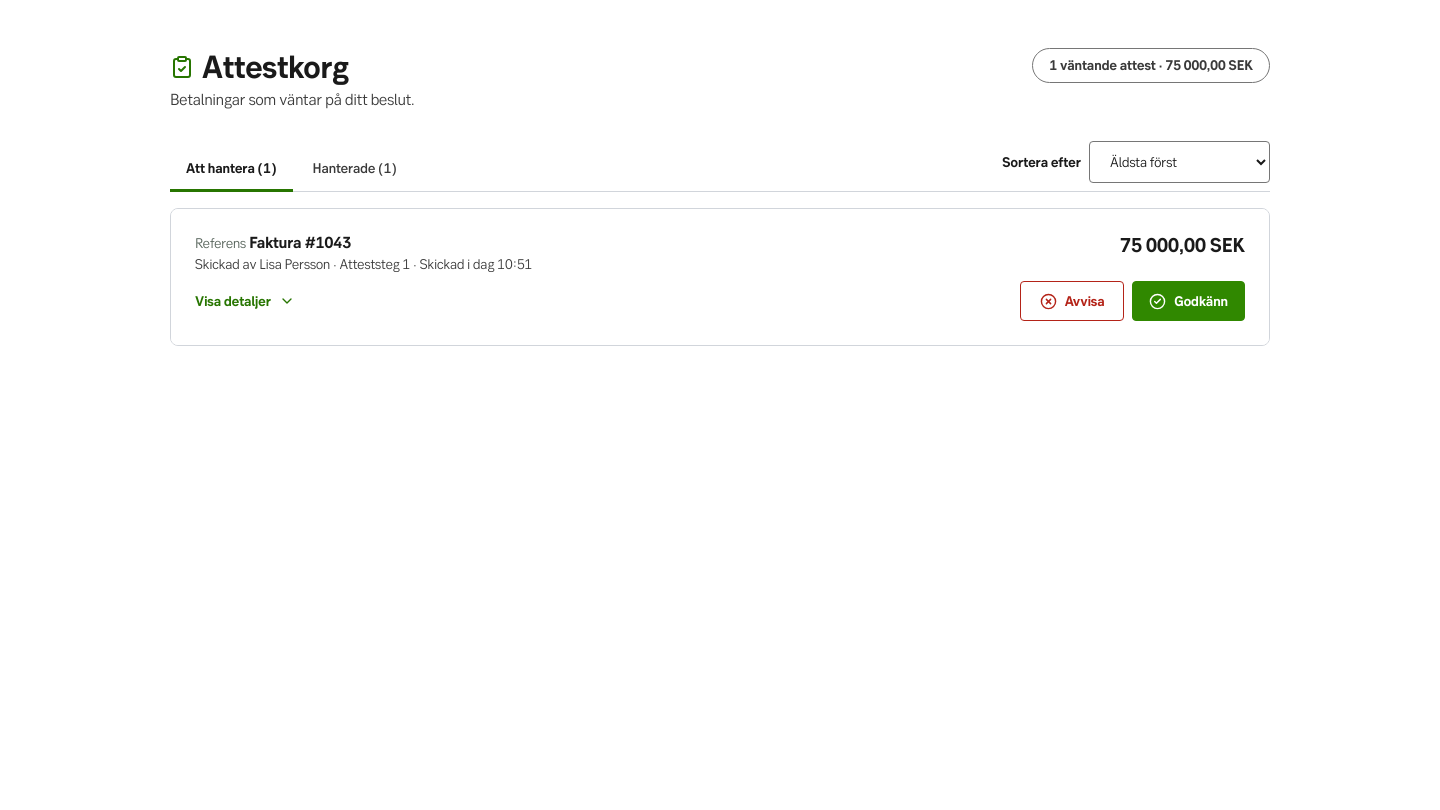
Approving and rejecting payments › does not reject with a reason shorter than 10 characters
Click the button with aria-label "Avvisa betalning med referens" at [1072, 301], box [1020,281,1124,321]
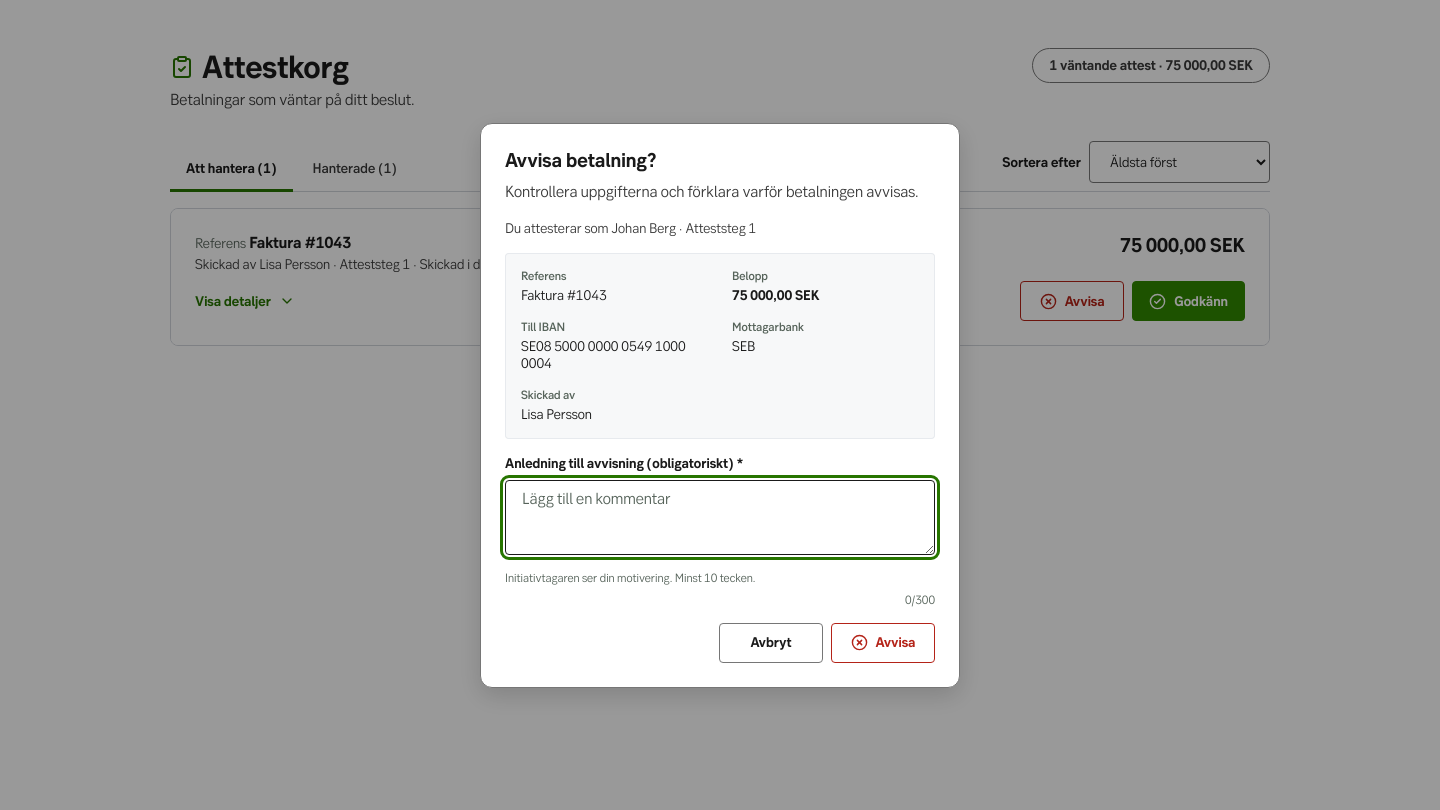
Type "För dyrt" into the text box labelled "Anledning till avvisning (obligatoriskt)" at [720, 517], box [505,480,935,554]
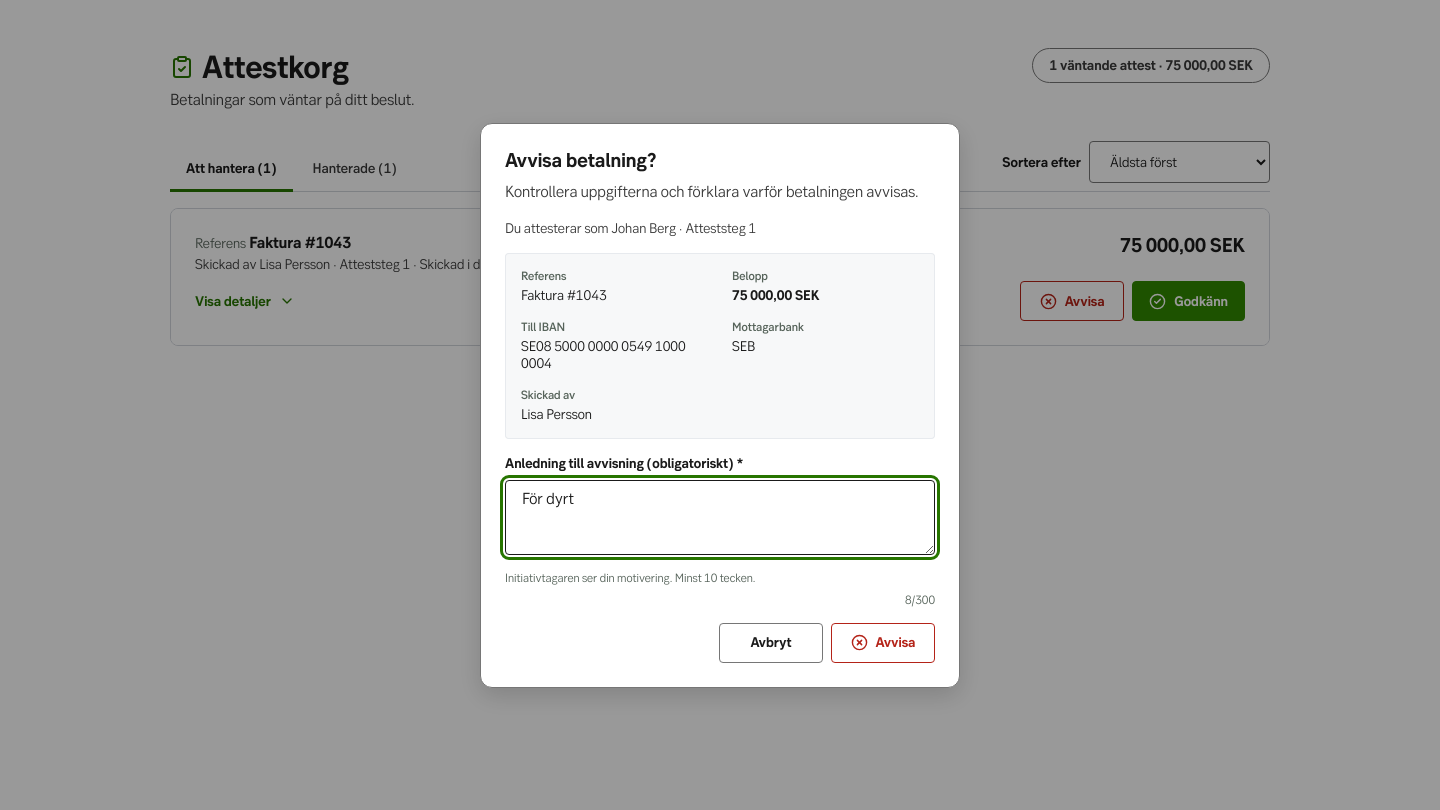
Click the button "Avvisa" at [883, 642], box [831,622,935,662]
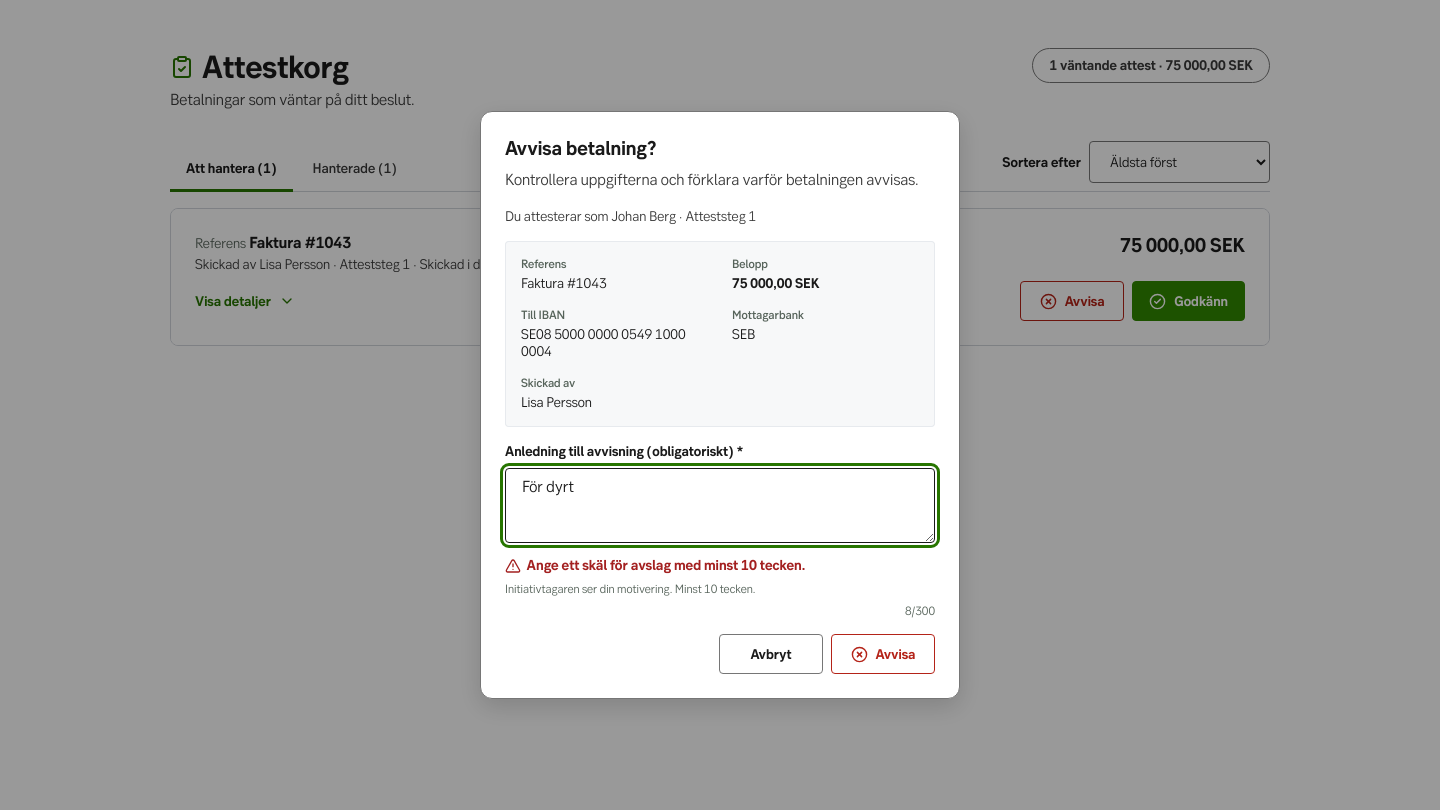
Check: the text "Ange ett skäl för avslag med minst 10 tecken." is shown, box [527,556,805,574]
